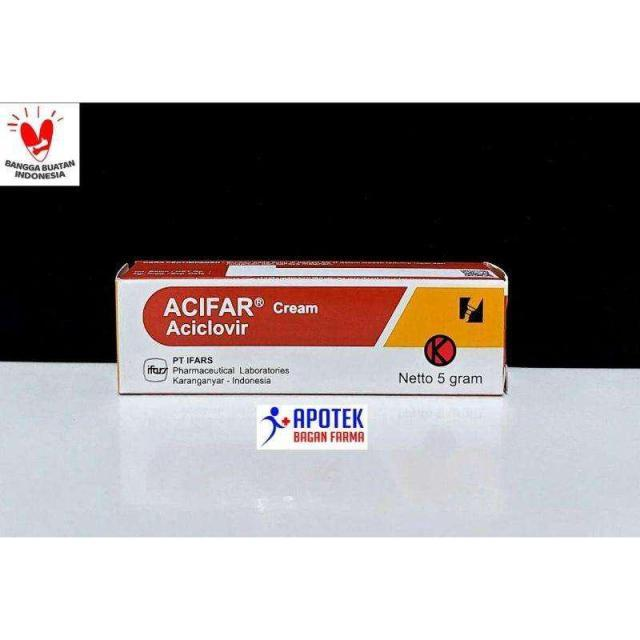drug-name: (162, 294, 252, 318)
